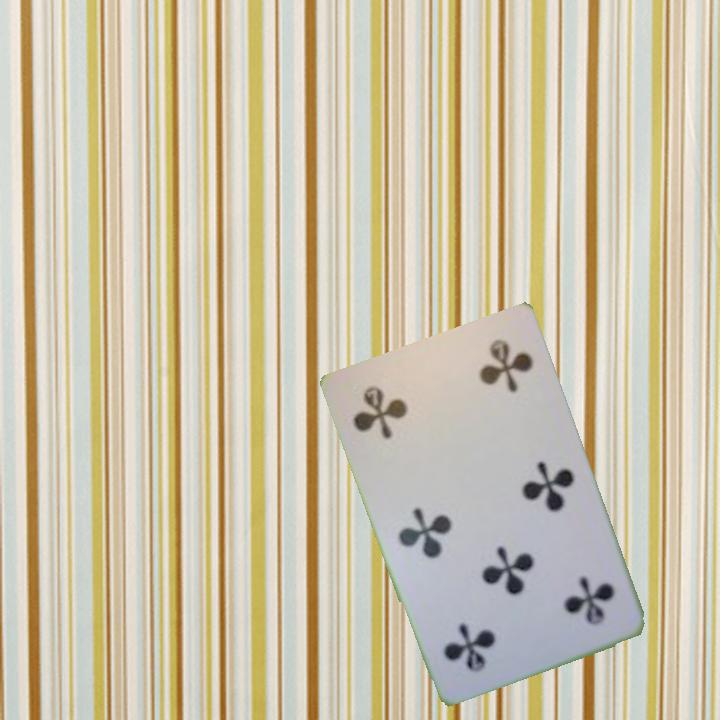c_7.png: (508, 543, 629, 656), (339, 353, 460, 466)
